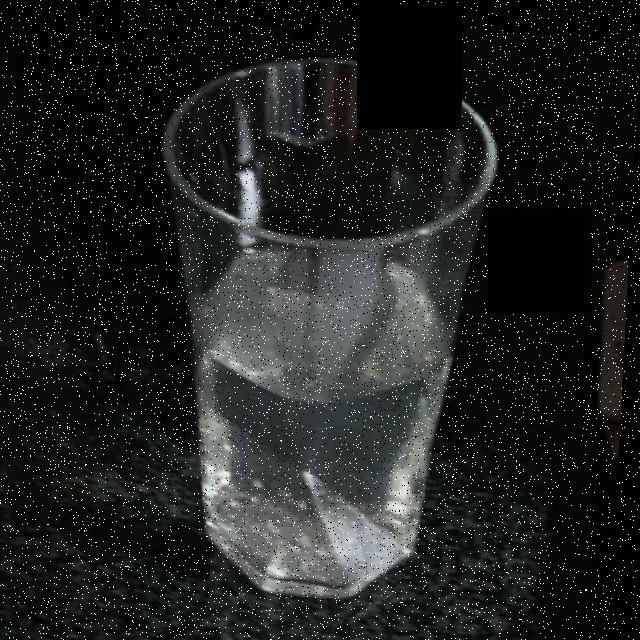drink: (208, 236, 472, 588)
